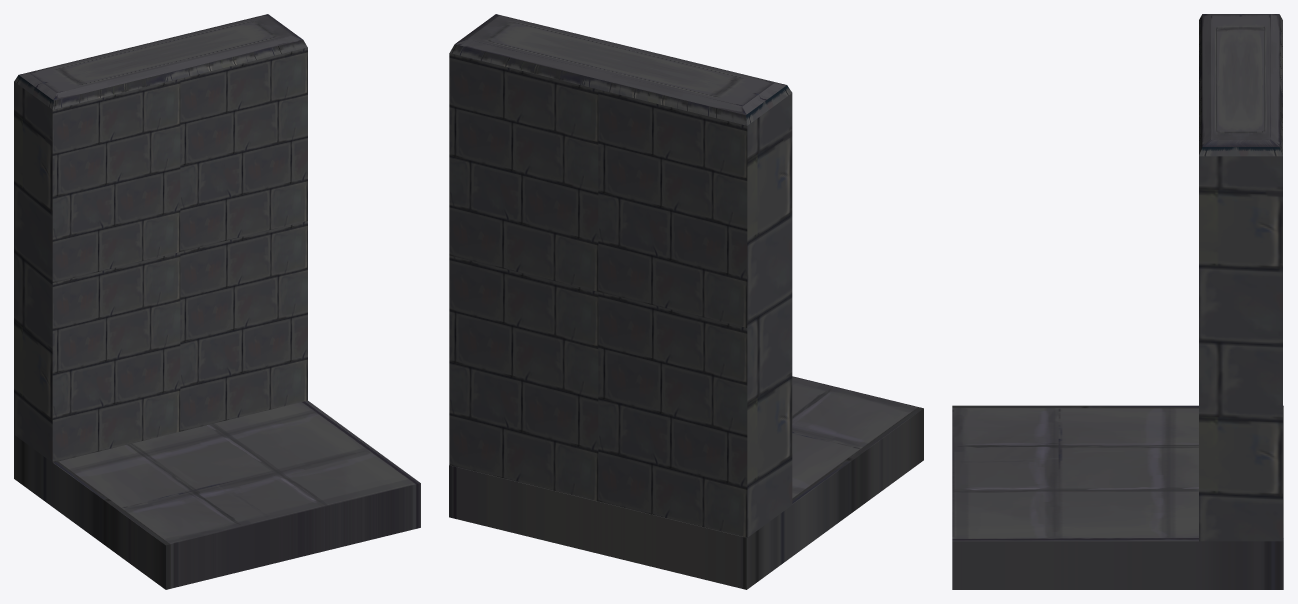
File: Wall_Piece_02.glb
The picture shows the model from 3 angles, left to right: view 1: azimuth 30°, elevation 25°; view 2: azimuth 150°, elevation 25°; view 3: azimuth 270°, elevation 25°; orthographic projection. The views are drawn at different scales.
Parts seen in each view (by area): view 1: Plane.012, Plane.008; view 2: Plane.012, Plane.008; view 3: Plane.008, Plane.012.
Boxes of the visible parts, left/top/right/bottom form: Plane.012: left=14, top=14, right=307, bottom=462; Plane.008: left=14, top=400, right=420, bottom=589; Plane.012: left=449, top=14, right=792, bottom=537; Plane.008: left=449, top=376, right=923, bottom=589; Plane.008: left=952, top=405, right=1283, bottom=589; Plane.012: left=1199, top=14, right=1282, bottom=541.
Bounding box in the file's own units: 3.93 × 6 × 4.05.
Materials: 1 (1 with a texture image).
